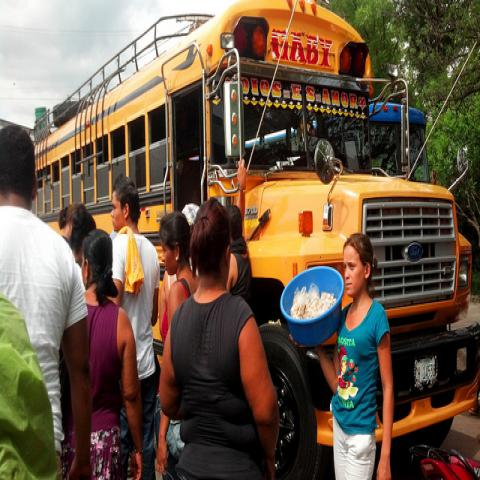bus: (28, 2, 478, 473), (369, 99, 431, 181)
